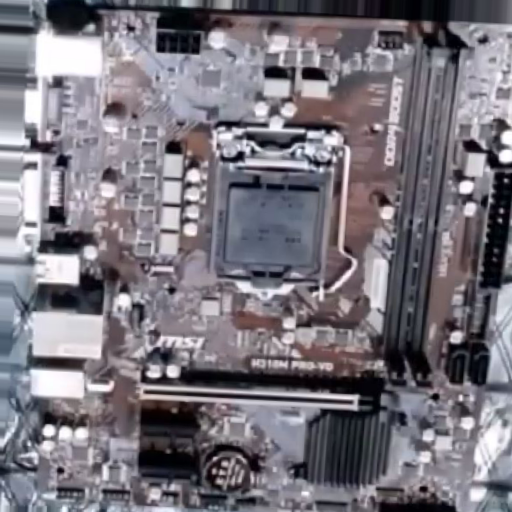CPU: (208, 128, 343, 300)
GPU: (139, 372, 406, 422)
MOTHERBOARD: (38, 5, 512, 511)
RAM: (385, 36, 476, 382)
